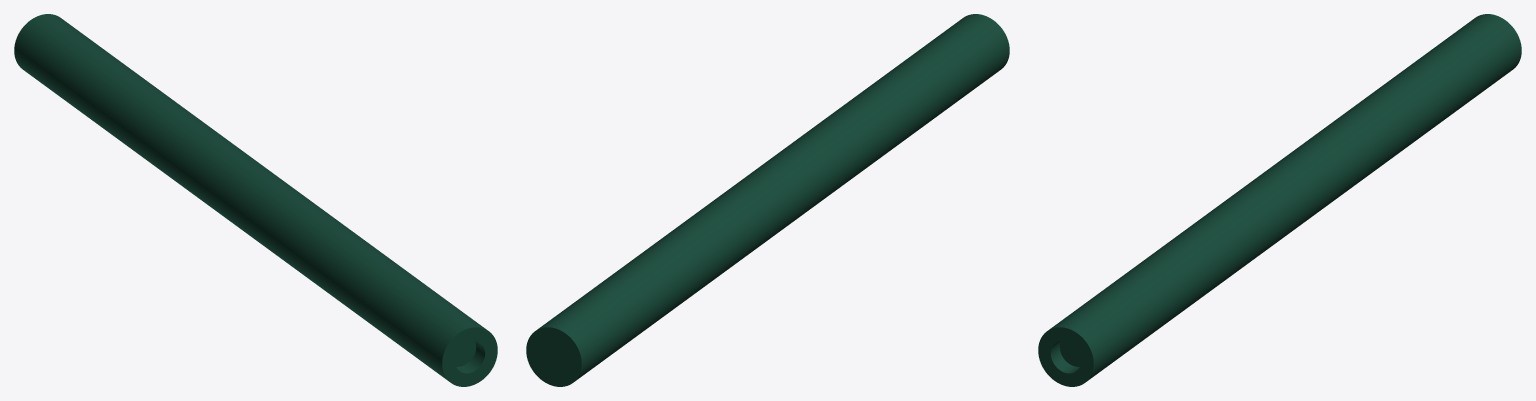
3 views of the same model, side by side, from view 1: azimuth 30°, elevation 25°; view 2: azimuth 150°, elevation 25°; view 3: azimuth 330°, elevation 25° (orthographic).
Visible parts, largest first — view 1: X03_PineGreen; view 2: X03_PineGreen; view 3: X03_PineGreen.
Part boxes in pixels (<box>): X03_PineGreen: <box>14,14,497,386</box>; X03_PineGreen: <box>526,14,1009,386</box>; X03_PineGreen: <box>1038,14,1521,386</box>.
Size of the model in its own units: 15 by 15 by 200.
